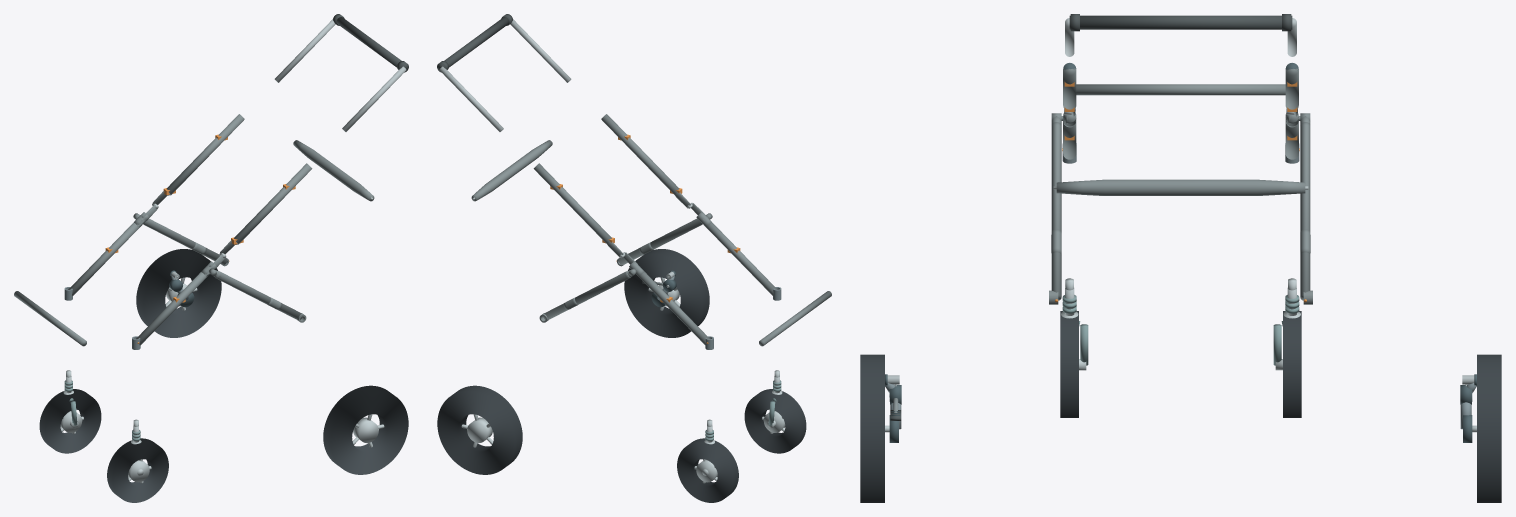
File: w650_state6.glb
The picture shows the model from 3 angles, left to right: view 1: azimuth 30°, elevation 25°; view 2: azimuth 150°, elevation 25°; view 3: azimuth 270°, elevation 25°; orthographic projection. The views are drawn at different scales.
Parts seen in each view (by area): view 1: RL_tire.016, RR_tire.016, FL_tire.016, FR_tire.016, V46_rearbar.014, main_upper_1.015, main_upper_-1.015, main_lower_1.015, main_lower_-1.015, round_handle.017, V46_rear_leg_-1.014, V46_rear_leg_1.014 (+4 smaller); view 2: RR_tire.016, RL_tire.016, FR_tire.016, FL_tire.016, V46_rearbar.014, main_upper_-1.015, main_upper_1.015, main_lower_-1.015, main_lower_1.015, round_handle.017, V46_rear_leg_1.014, V46_rear_leg_-1.014 (+4 smaller); view 3: V46_rearbar.014, RL_tire.016, RR_tire.016, round_handle.017, front_fixed_round_tube.015, FL_tire.016, FR_tire.016, V46_rear_leg_1.014, V46_rear_leg_-1.014.
Boxes of the visible parts, x1,y1,x2,y2 form: RL_tire.016: (323,385,408,474); RR_tire.016: (136,249,221,337); FL_tire.016: (107,438,168,502); FR_tire.016: (39,389,101,453); V46_rearbar.014: (293,140,374,201); main_upper_1.015: (166,114,244,194); main_upper_-1.015: (234,163,312,243); main_lower_1.015: (68,220,144,295); main_lower_-1.015: (136,272,209,345); round_handle.017: (336,17,408,71); V46_rear_leg_-1.014: (215,271,302,319); V46_rear_leg_1.014: (143,218,227,265); RR_tire.016: (437,385,522,474); RL_tire.016: (624,249,709,337); FR_tire.016: (677,438,738,502); FL_tire.016: (744,389,806,453); V46_rearbar.014: (471,140,552,201); main_upper_-1.015: (601,114,679,194); main_upper_1.015: (533,163,611,243); main_lower_-1.015: (701,220,777,295); main_lower_1.015: (636,272,709,345); round_handle.017: (437,17,509,71); V46_rear_leg_1.014: (543,271,630,319); V46_rear_leg_-1.014: (618,218,702,265); V46_rearbar.014: (1056,179,1305,195); RL_tire.016: (860,354,884,502); RR_tire.016: (1477,354,1501,502); round_handle.017: (1069,15,1292,29); front_fixed_round_tube.015: (1076,84,1285,95); FL_tire.016: (1060,311,1078,417); FR_tire.016: (1283,311,1301,417); V46_rear_leg_1.014: (1300,122,1310,300); V46_rear_leg_-1.014: (1051,122,1061,300).
Size of the model in its own units: 1.51 by 1.64 by 1.56.
